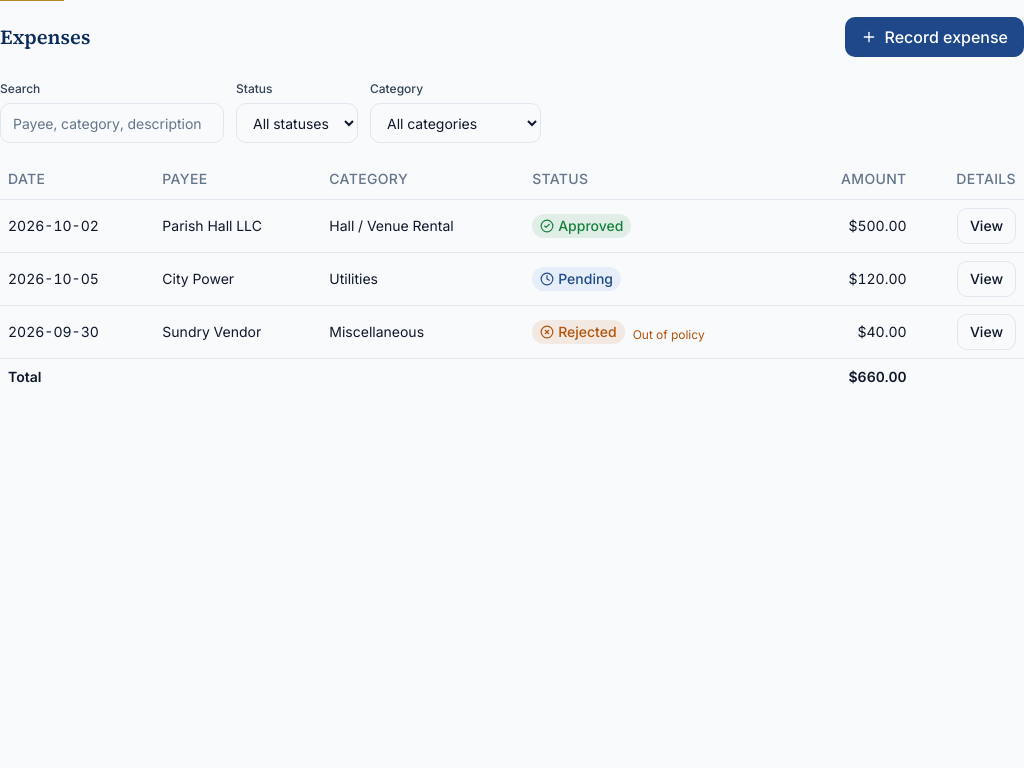
ExpensesLedgerPage (story 5.5) › opens a read-only detail dialog for an approved expense (fix: decided items are viewable)
Check: the table is shown, box [0,159,1023,394]
Click the button with aria-label "view details for parish hall llc" at x=986, y=226, box [957,208,1016,244]
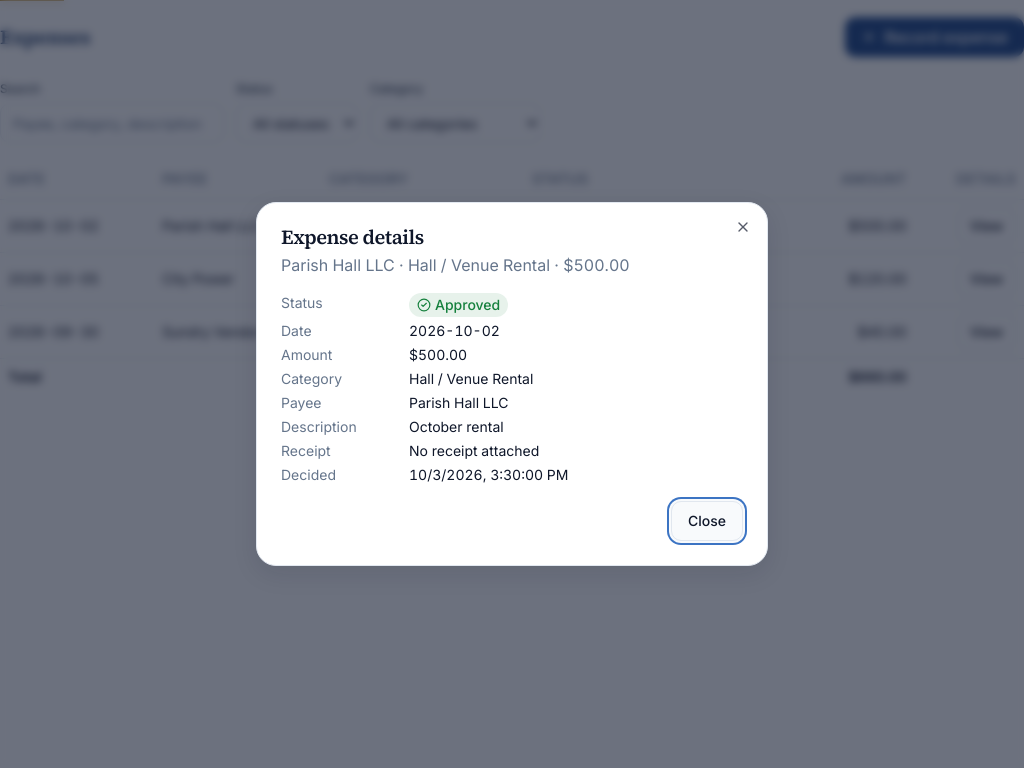
Check: the heading "Expense details" is shown, box [281,223,424,251]
Check: the text "October rental" is shown, box [409,418,504,435]
Check: the text "Decided" is shown, box [281,466,336,483]
